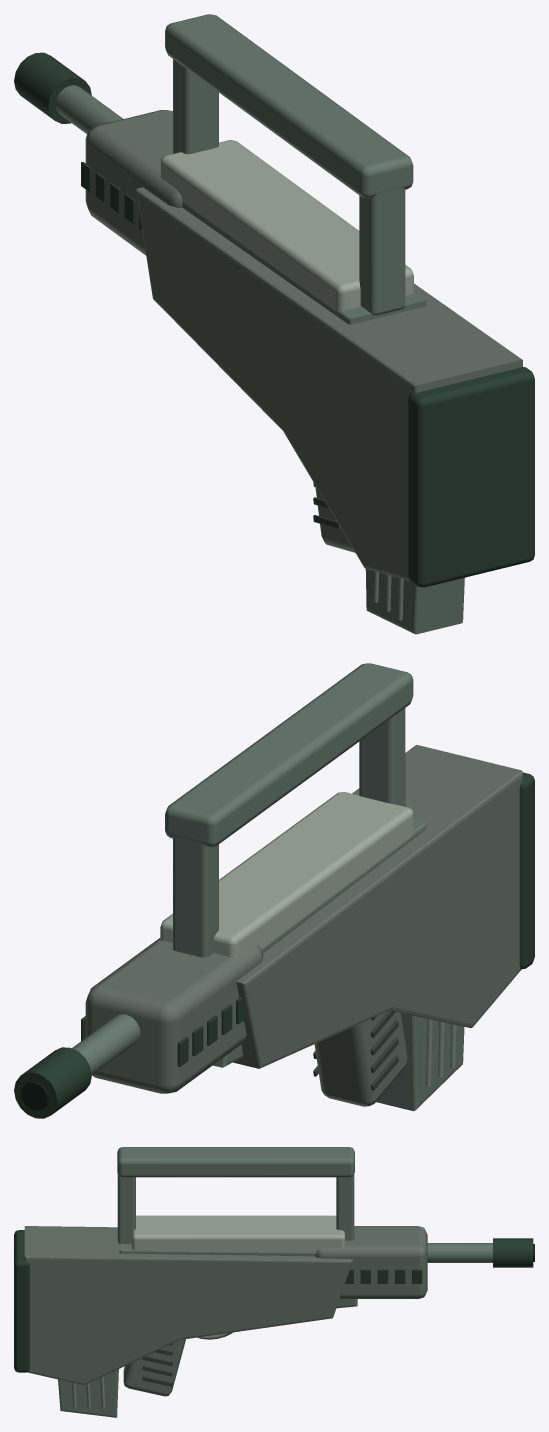
The model's file is famas.glb.
3 views of the same model, one above another, from view 1: azimuth 30°, elevation 25°; view 2: azimuth 150°, elevation 25°; view 3: azimuth 270°, elevation 25° (orthographic). The views are drawn at different scales.
Parts seen in each view (by area): view 1: famas, magazine; view 2: famas, magazine; view 3: famas, magazine.
Part boxes in pixels (box(x1,y1,x2,y2)): famas: box(14, 14, 534, 587); magazine: box(365, 569, 464, 634); famas: box(14, 663, 534, 1118); magazine: box(376, 1013, 464, 1111); famas: box(14, 1147, 534, 1396); magazine: box(58, 1369, 118, 1417).
Bounding box in the file's own units: 0.17 × 0.6009 × 1.1.
